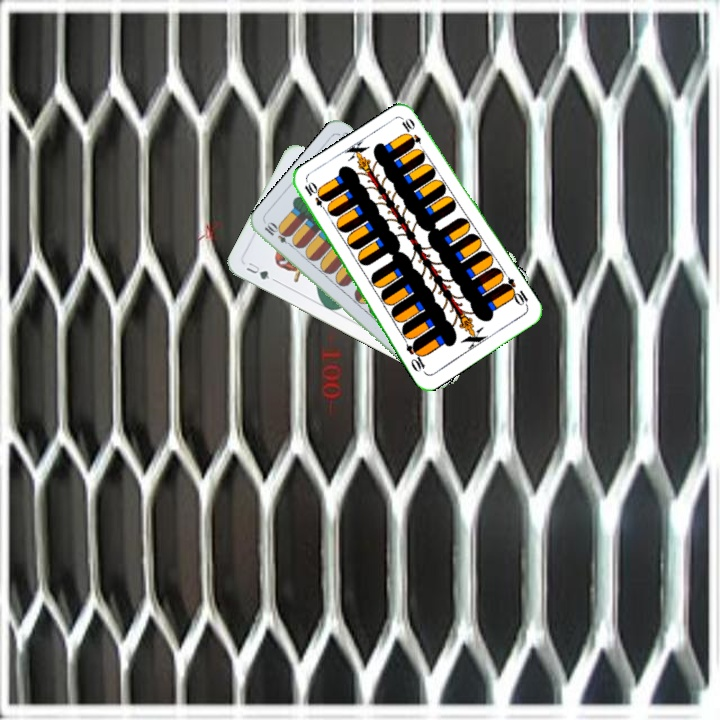E10: (499, 274, 531, 310), (260, 219, 297, 250), (300, 179, 331, 215)
GU: (242, 258, 272, 282)
